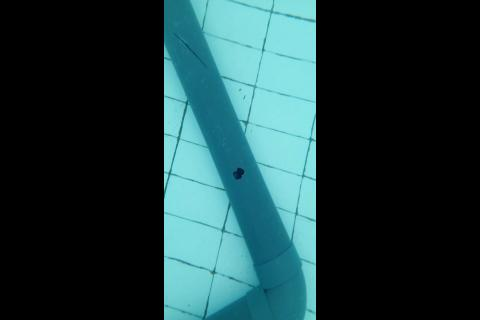kebocoran: (231, 166, 245, 180)
keretakan: (171, 31, 208, 69)
